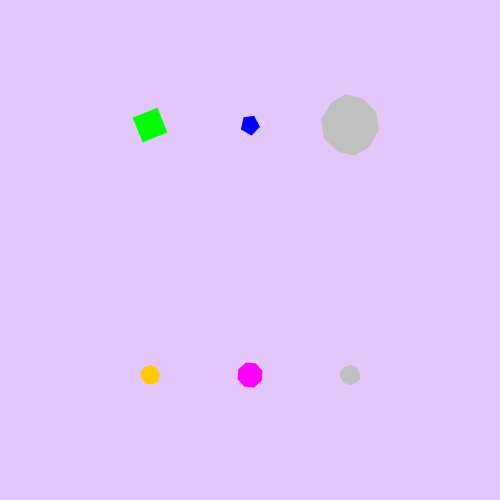decagon: (316, 94, 384, 156), (335, 361, 365, 389)
nonagon: (136, 361, 165, 389)
octagon: (233, 358, 267, 392)
pentagon: (236, 111, 264, 139)
quadrilateral: (128, 103, 173, 148)
